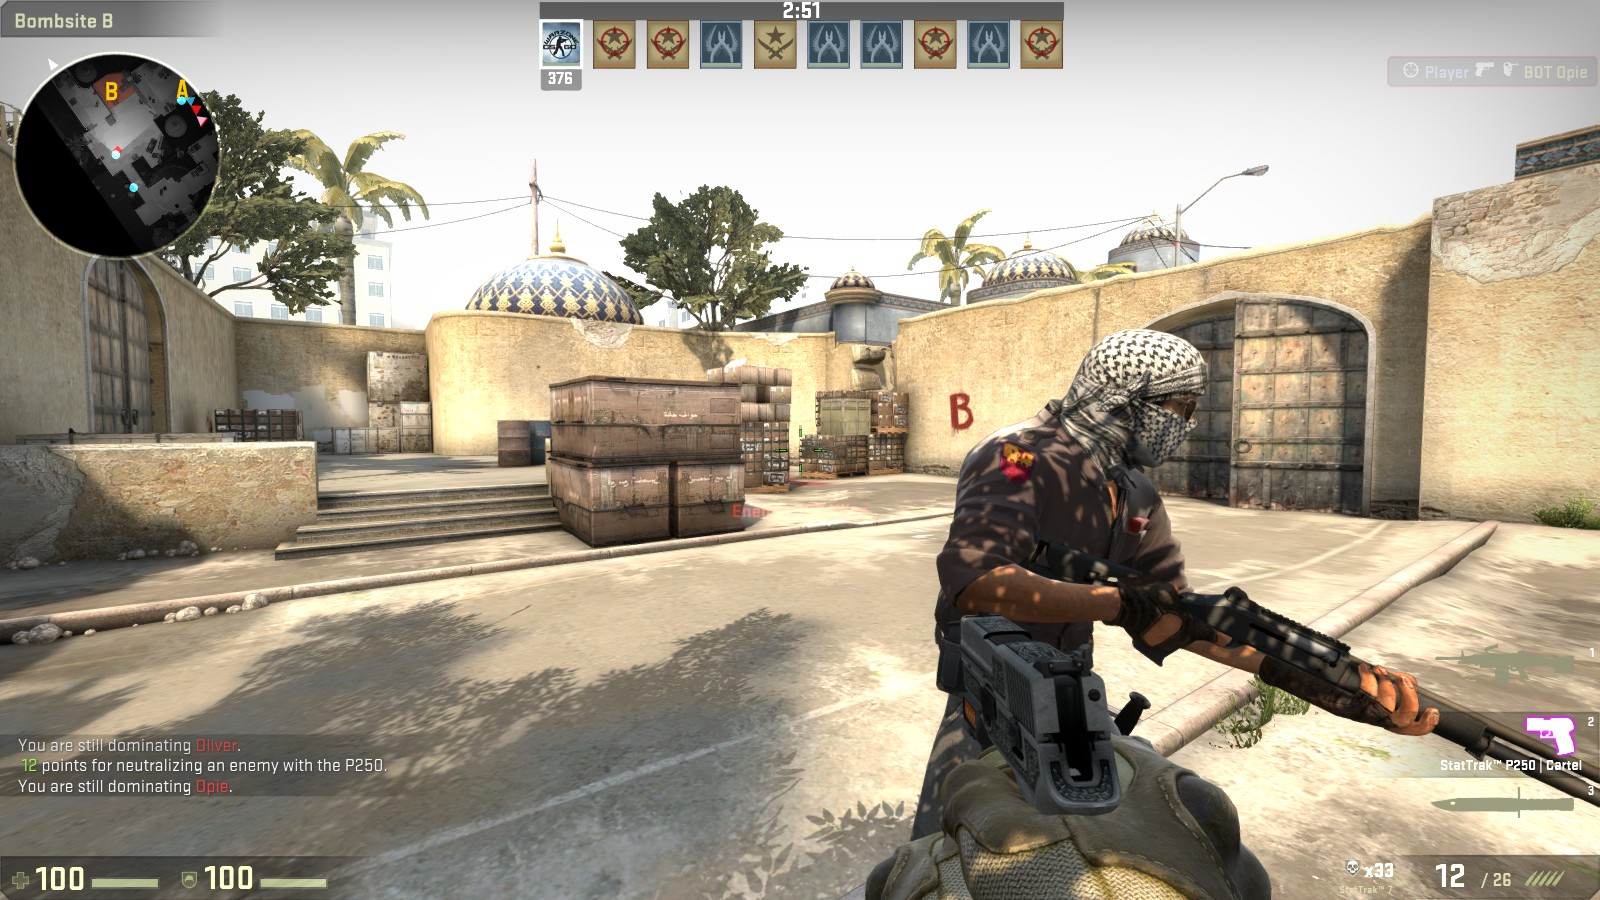t: (912, 311, 1198, 795)
th: (1049, 330, 1218, 465)
